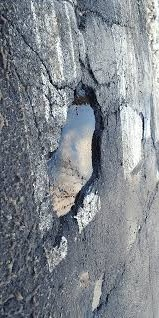pothole: (42, 92, 104, 226), (88, 273, 108, 313)
